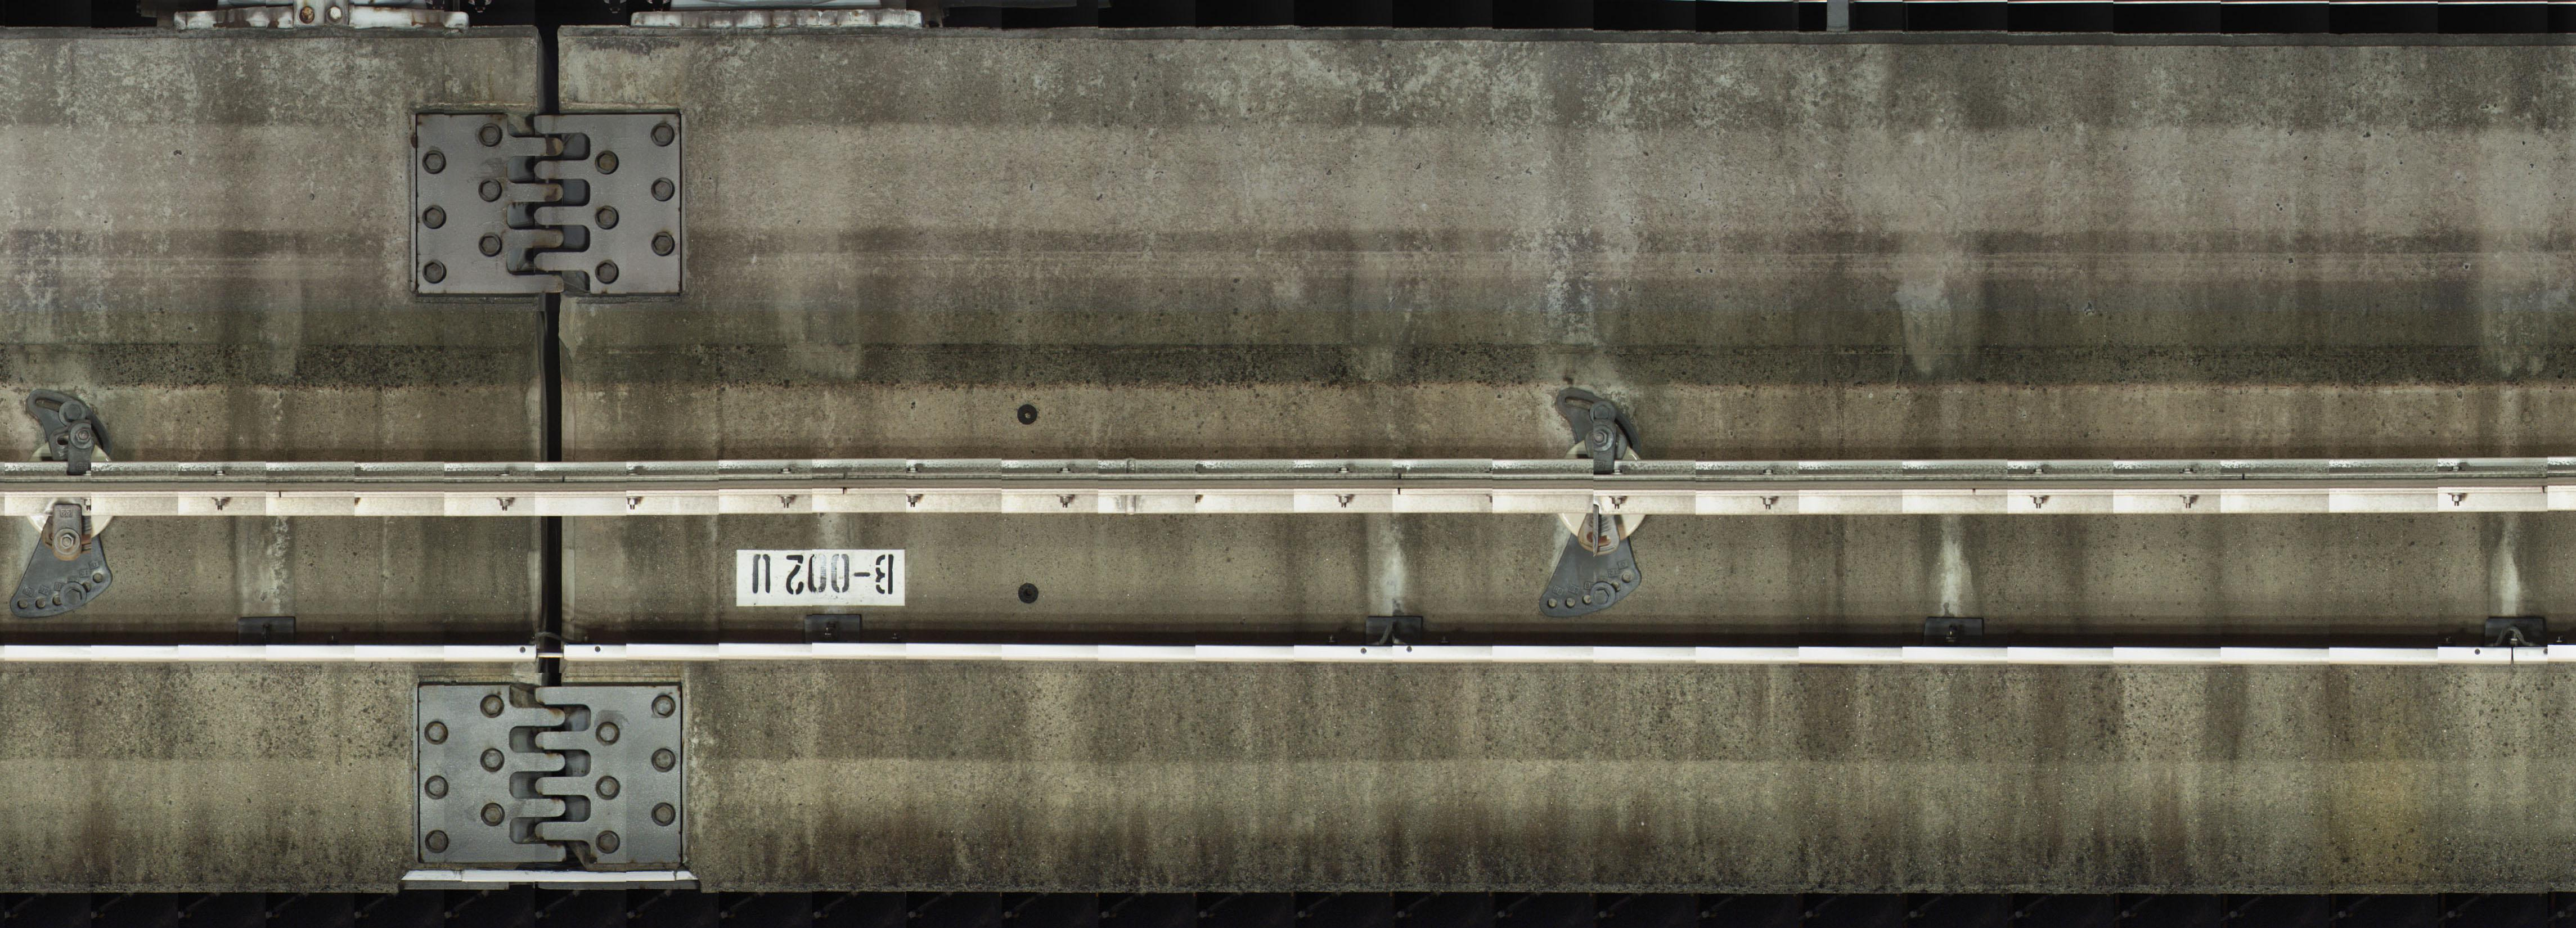concrete: (560, 28, 2568, 450), (559, 517, 2571, 890), (7, 28, 539, 460), (5, 511, 534, 907)
